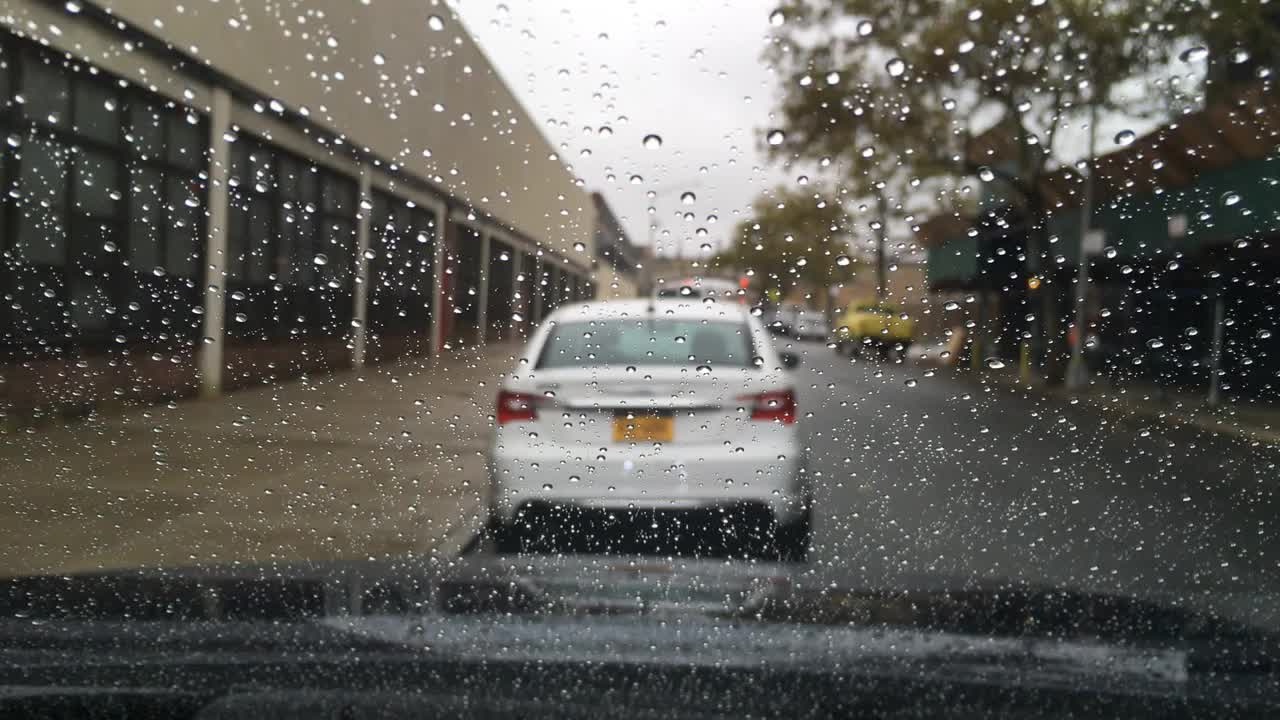car: (489, 296, 811, 563), (652, 278, 745, 305), (790, 313, 826, 341), (775, 299, 794, 332), (761, 305, 772, 327)
traffic sign: (1076, 286, 1098, 317)
truck: (835, 299, 910, 357)
